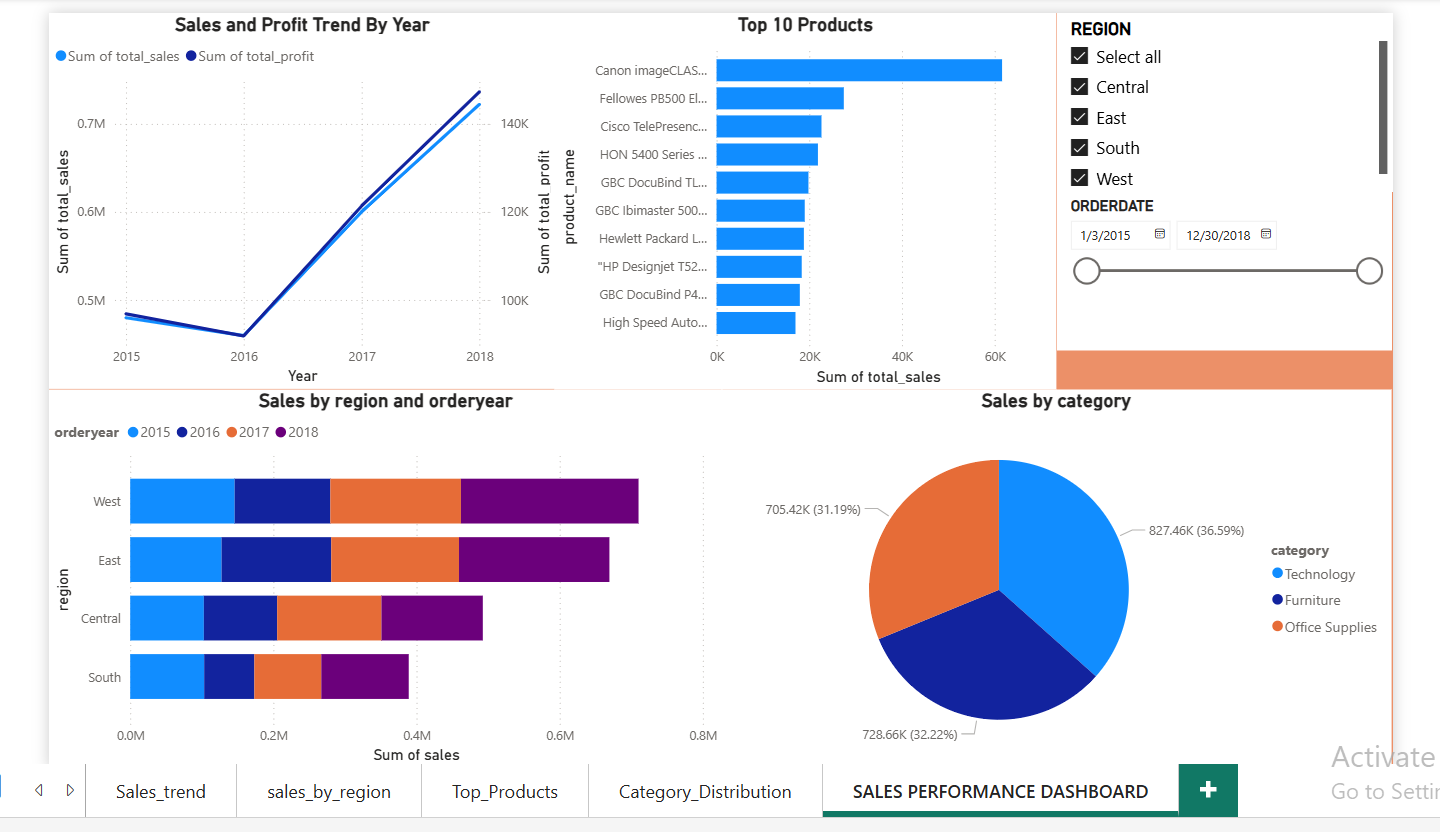

This screenshot's page, from the dashboard's own definition file:
{"tool":"powerbi","page":{"name":"SALES PERFORMANCE DASHBOARD","canvas":[1280,720],"ordinal":4},"visuals":[{"type":"lineChart","title":"Sales and Profit Trend By Year","fields":{"Y":["Sum(sales_trend.total_sales)"],"Category":["sales_trend.my_formatted_orderdate.Variation.Date Hierarchy.Year"],"Y2":["Sum(sales_trend.total_profit)"]},"box":[0,0,482.5,357.9],"z":0},{"type":"barChart","title":"Sales by region and orderyear","fields":{"Category":["mysales_data.region"],"Y":["Sum(mysales_data.sales)"],"Series":["mysales_data.orderyear"]},"box":[0,358.5,641.3,360.5],"z":1000},{"type":"pieChart","title":"Sales by category","fields":{"Category":["mysales_data.category"],"Y":["Sum(mysales_data.sales)"]},"box":[640.6,359.1,638.7,360.9],"z":2000},{"type":"barChart","title":"Top 10 Products","fields":{"Category":["top_products.product_name"],"Y":["Sum(top_products.total_sales)"]},"box":[482,0,478,358.5],"z":3000},{"type":"slicer","fields":{"Values":["mysales_data.region"]},"box":[960,0,319.4,170.1],"z":3001},{"type":"slicer","fields":{"Values":["mysales_data.my_formatted_orderdate"]},"box":[960,169.3,318.7,151.4],"z":3002}]}

Visuals, with their boxes on the page's 1280x720 design canvas (x1, y1, x2, y2). These are canvas units, not pixel positions in the 1440x832 screenshot, which may show the page scaled, cropped or inside an application window:
"Sales and Profit Trend By Year" lineChart: l=0, t=0, r=482, b=358
"Sales by region and orderyear" barChart: l=0, t=358, r=641, b=719
"Sales by category" pieChart: l=641, t=359, r=1279, b=720
"Top 10 Products" barChart: l=482, t=0, r=960, b=358
slicer - mysales_data.region: l=960, t=0, r=1279, b=170
slicer - mysales_data.my_formatted_orderdate: l=960, t=169, r=1279, b=321
